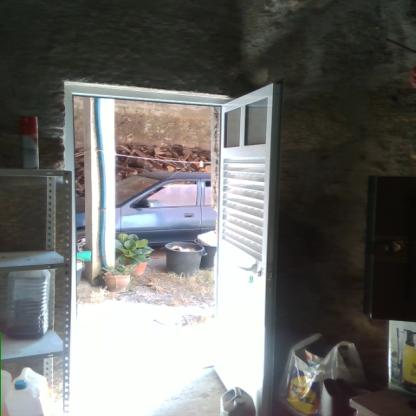open: (49, 72, 287, 416)
